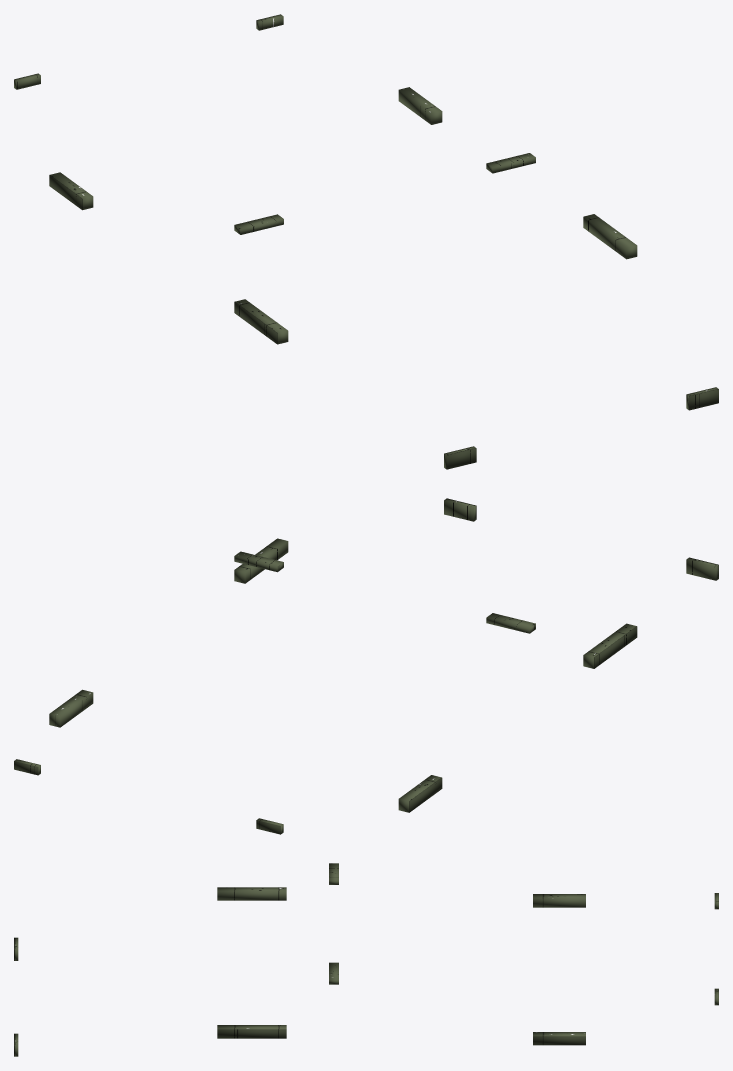
Rendered from medium_tank_emissive_body.obj.
3 renders of one model, top to bottom at view 1: azimuth 30°, elevation 25°; view 2: azimuth 150°, elevation 25°; view 3: azimuth 270°, elevation 25°, orthographic. The views are drawn at different scales.
Visible parts, largest first — view 1: Emissive_Body; view 2: Emissive_Body; view 3: Emissive_Body.
Boxes of the visible parts, bbox=[...] form: Emissive_Body: bbox=[14, 14, 718, 469]; Emissive_Body: bbox=[14, 498, 718, 834]; Emissive_Body: bbox=[14, 863, 718, 1056].
Size of the model in its own units: 2.66 by 0.71 by 5.57.
